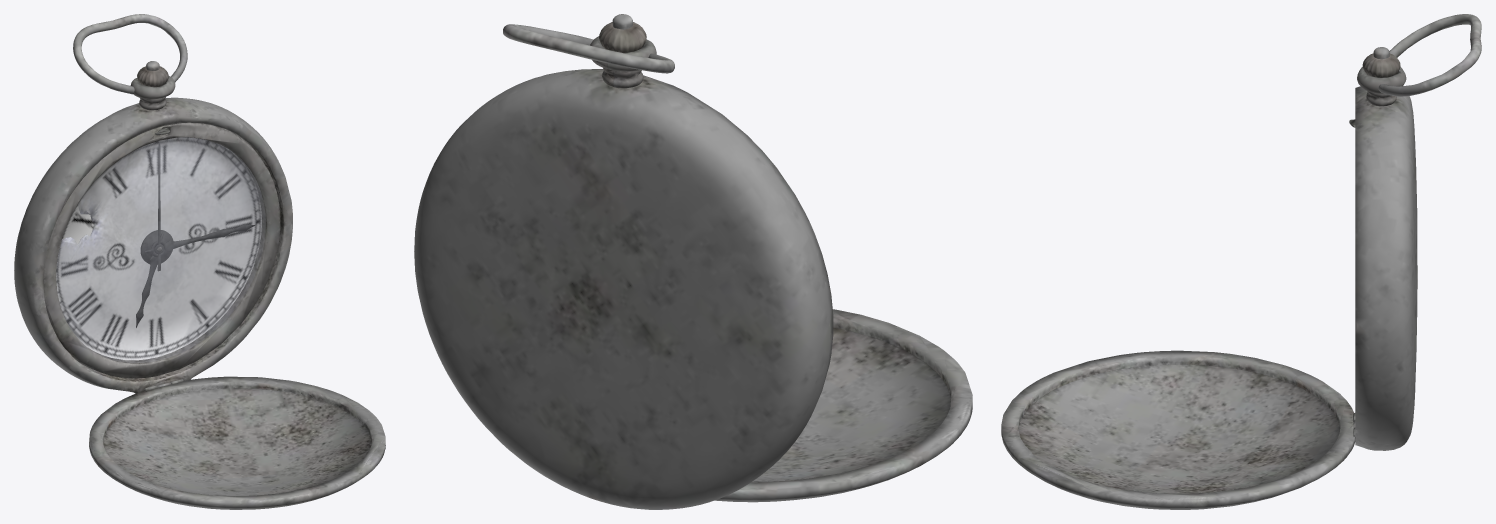
File: pocketWatch.glb
The picture shows the model from 3 angles, left to right: view 1: azimuth 30°, elevation 25°; view 2: azimuth 150°, elevation 25°; view 3: azimuth 270°, elevation 25°; orthographic projection. The views are drawn at different scales.
Visible parts, largest first — view 1: Pocket_Watch; view 2: Pocket_Watch; view 3: Pocket_Watch.
Boxes of the visible parts, x1,y1,x2,y2 form: Pocket_Watch: [14, 14, 385, 509]; Pocket_Watch: [414, 14, 972, 509]; Pocket_Watch: [1001, 14, 1481, 509].
Bounding box in the file's own units: 513 × 658 × 668.
Materials: 4 (4 with a texture image).
